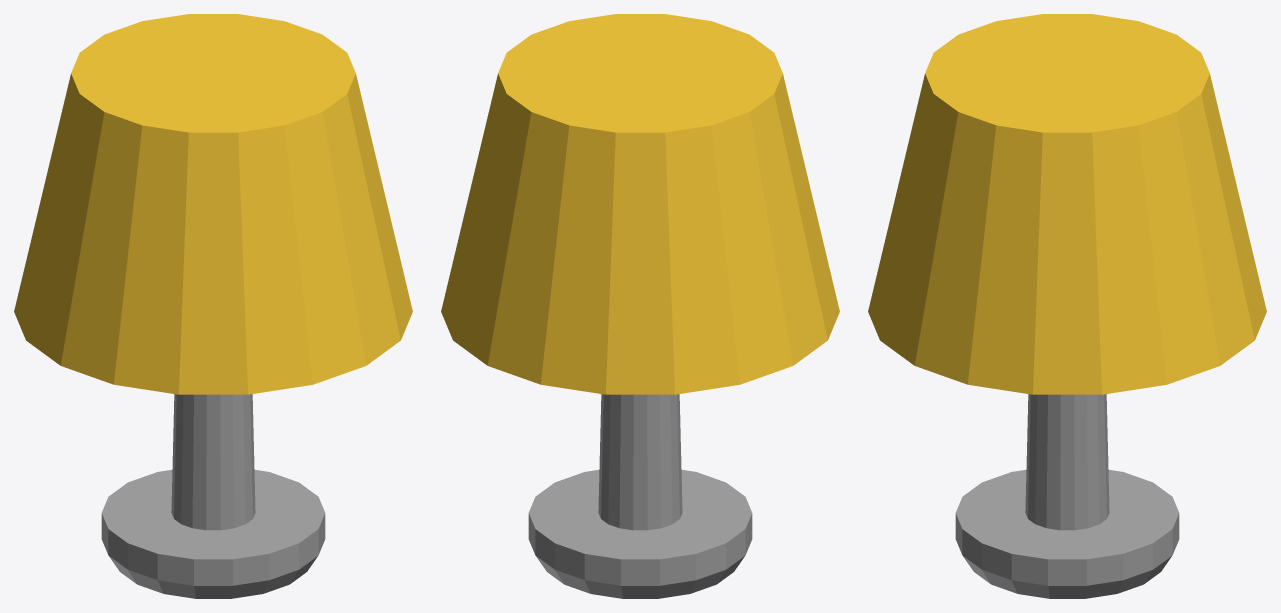
File: Light_2.fbx
3 renders of one model, left to right at view 1: azimuth 30°, elevation 25°; view 2: azimuth 150°, elevation 25°; view 3: azimuth 270°, elevation 25°, orthographic.
Visible parts, largest first — view 1: Light_2; view 2: Light_2; view 3: Light_2.
Boxes of the visible parts, box(x1,y1,x2,y2) form: Light_2: box(14, 14, 412, 598); Light_2: box(441, 14, 839, 598); Light_2: box(868, 14, 1266, 598).
Bounding box in the file's own units: 0.1946 × 0.2646 × 0.1976.
